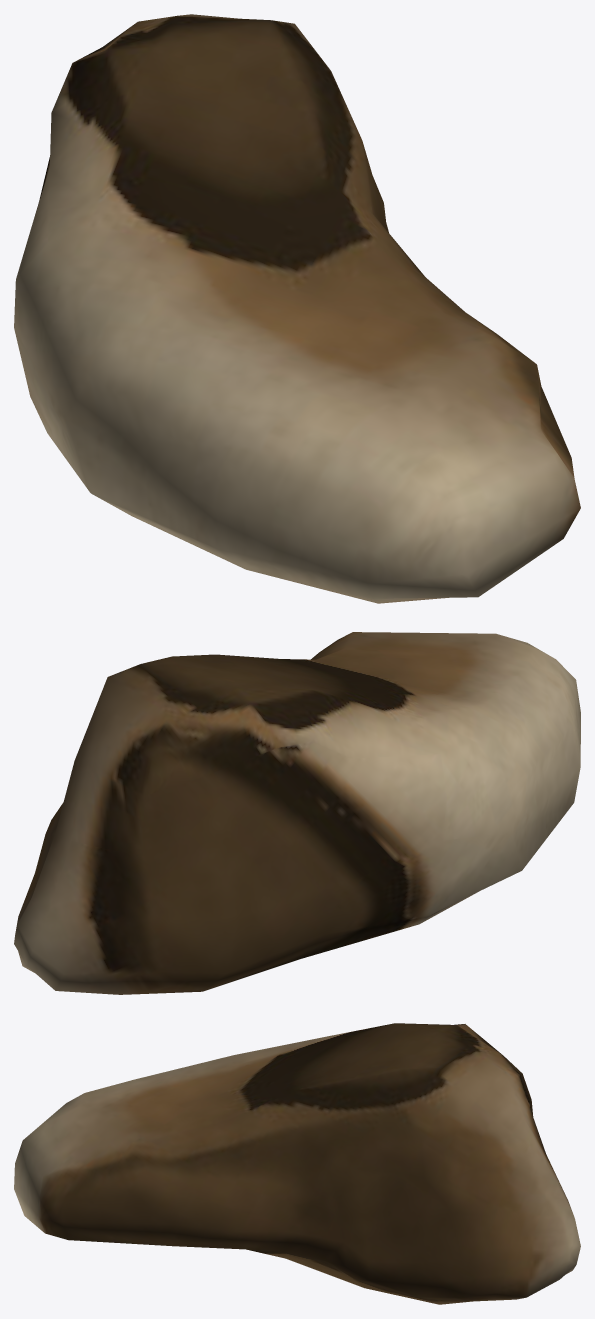
Rendered from Tarsal_II.glb.
3 views of the same model, one above another, from view 1: azimuth 30°, elevation 25°; view 2: azimuth 150°, elevation 25°; view 3: azimuth 270°, elevation 25° (orthographic). The views are drawn at different scales.
Parts seen in each view (by area): view 1: Tarsal_II_Left1:Group16803; view 2: Tarsal_II_Left1:Group16803; view 3: Tarsal_II_Left1:Group16803.
Boxes of the visible parts, x1,y1,x2,y2 form: Tarsal_II_Left1:Group16803: [14, 14, 580, 603]; Tarsal_II_Left1:Group16803: [14, 632, 580, 994]; Tarsal_II_Left1:Group16803: [14, 1023, 580, 1304].
Size of the model in its own units: 5.82 by 4.84 by 10.89.
Materials: 1 (1 with a texture image).
